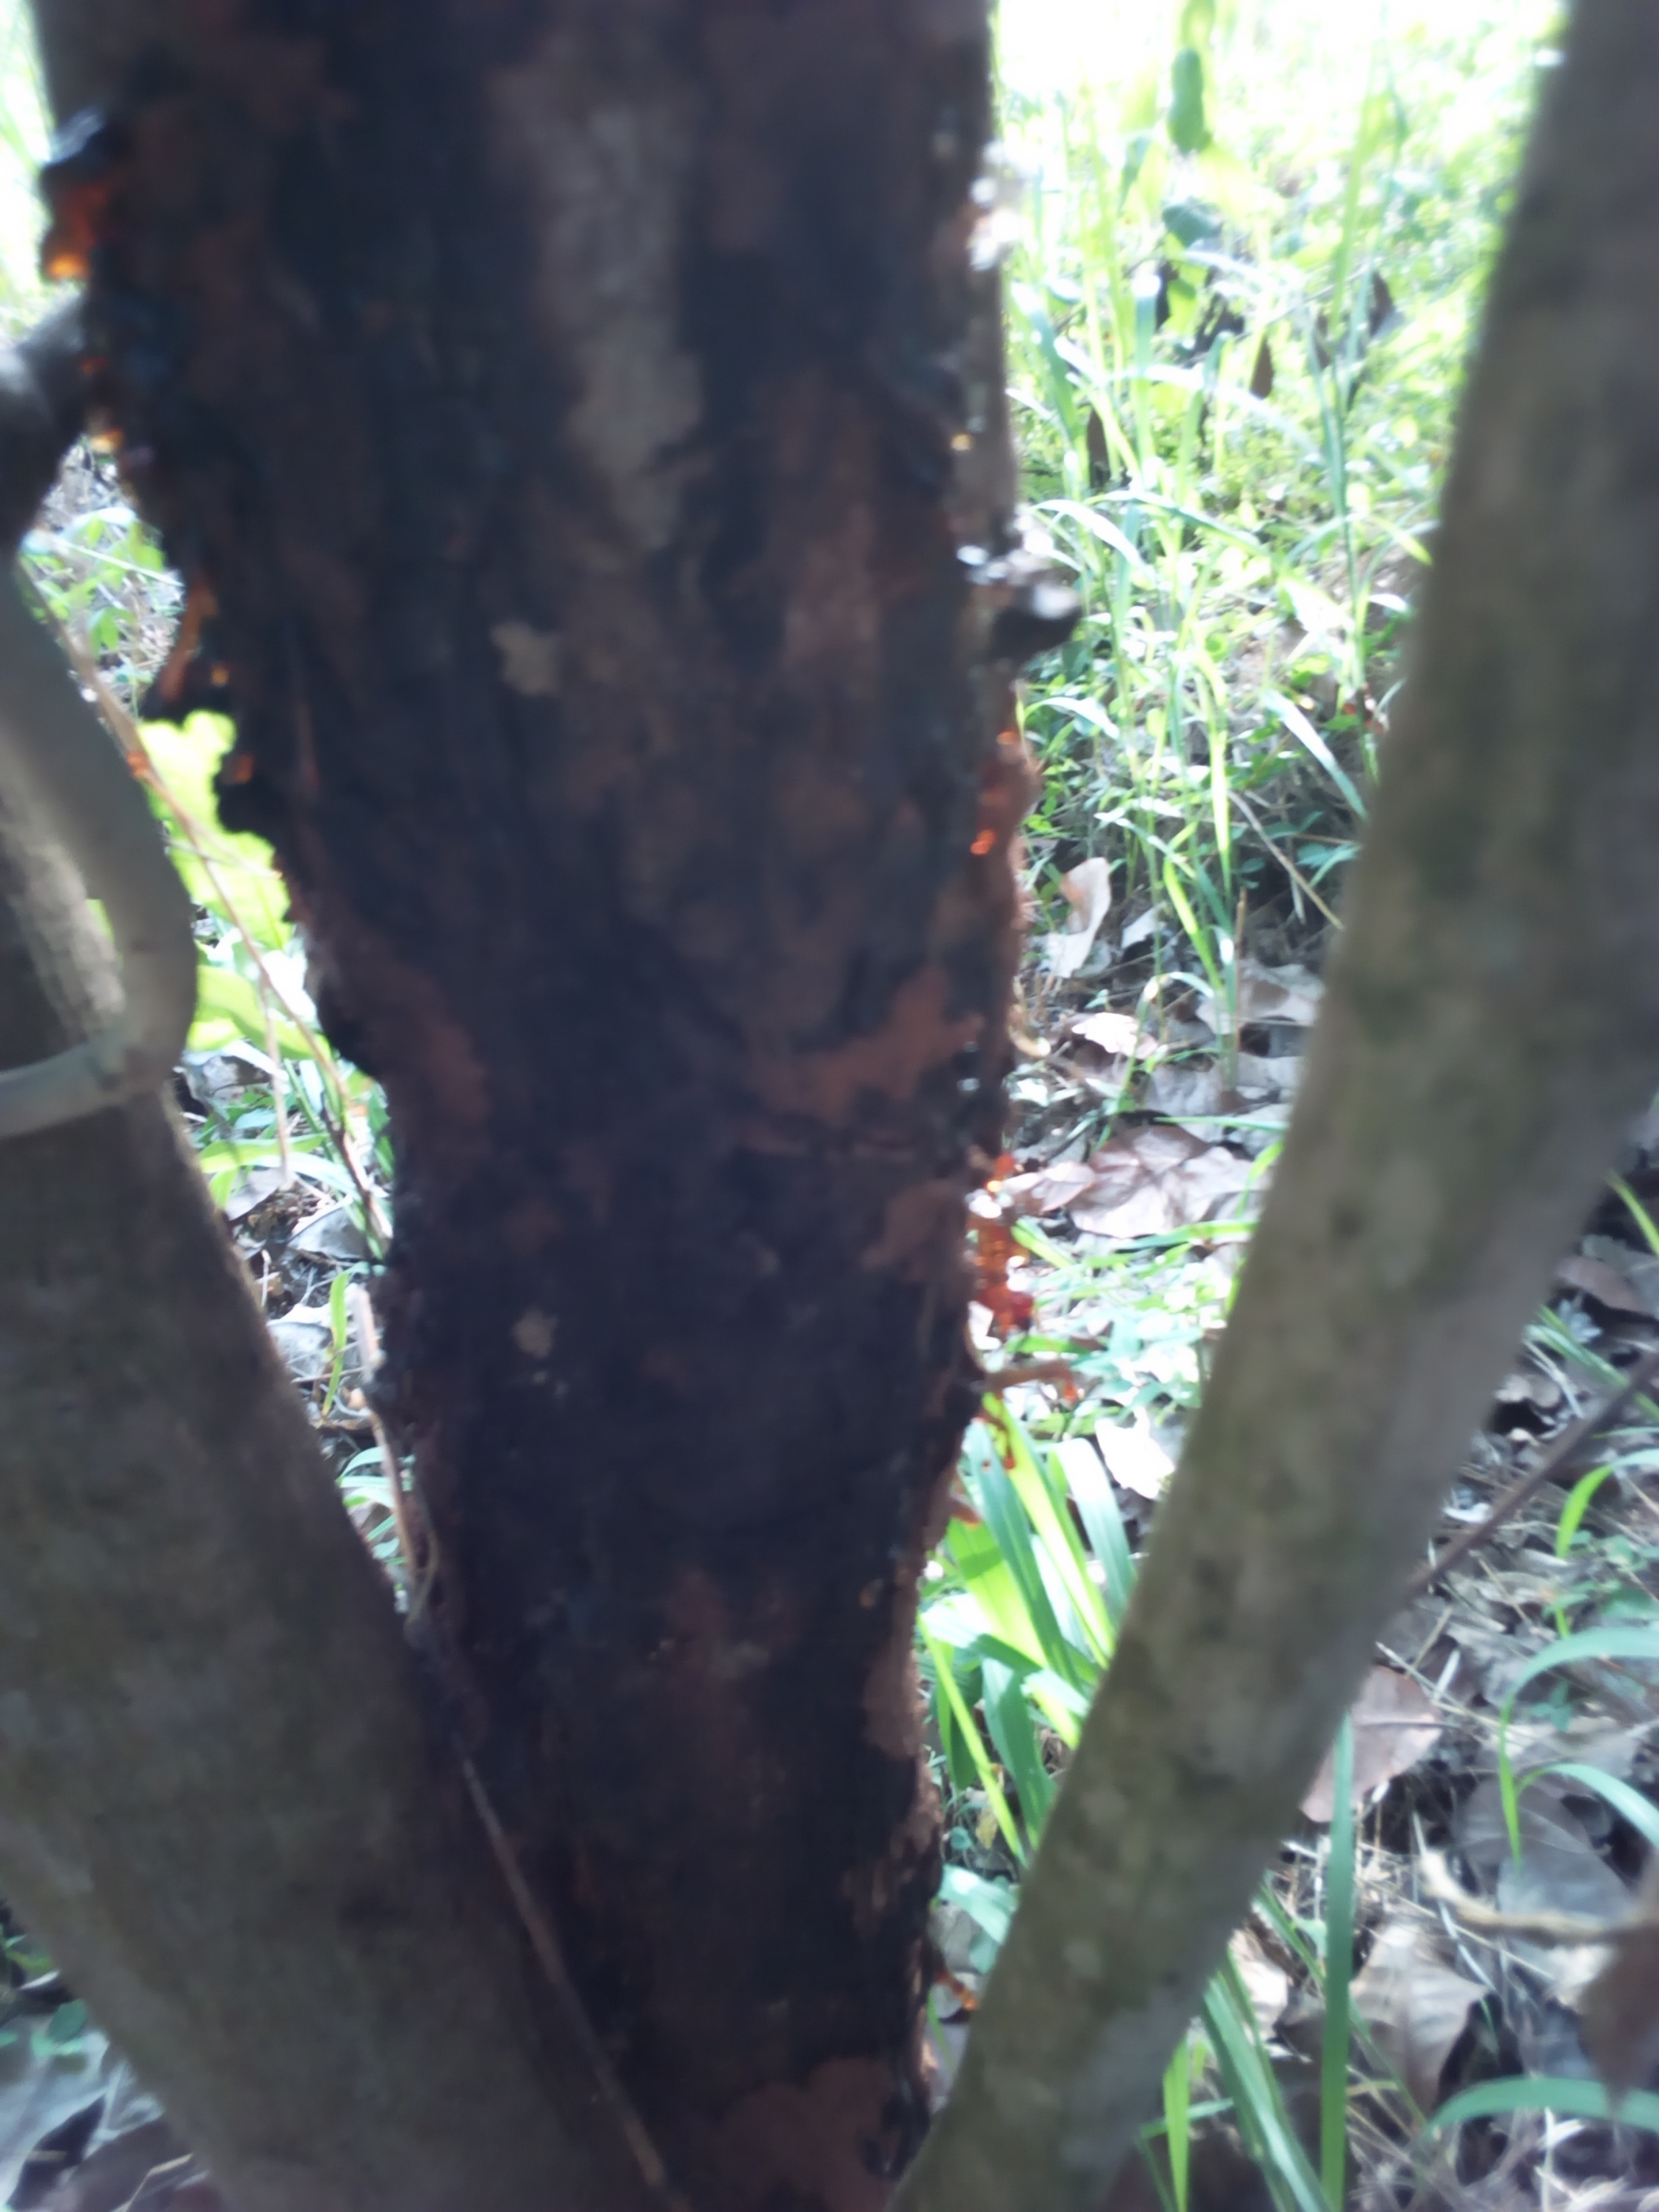Gommose: (44, 85, 969, 2013)
